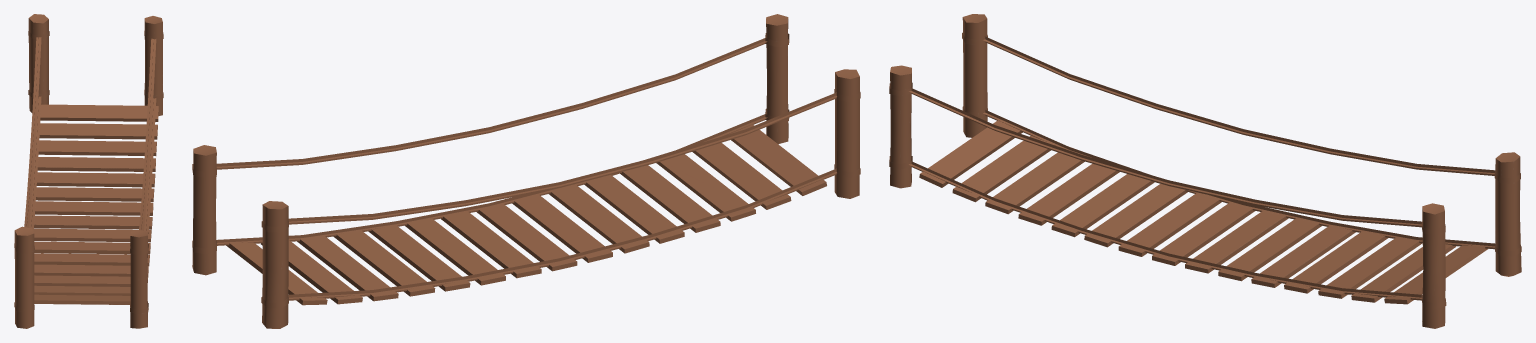
File: bridge.glb
3 renders of one model, left to right at view 1: azimuth 30°, elevation 25°; view 2: azimuth 150°, elevation 25°; view 3: azimuth 270°, elevation 25°, orthographic. The views are drawn at different scales.
Visible parts, largest first — view 1: node_id576; view 2: node_id576; view 3: node_id576.
Part boxes in pixels (x1,y1,x2,y2): node_id576: (14, 14, 163, 328); node_id576: (192, 14, 860, 328); node_id576: (889, 14, 1521, 328).
Bounding box in the file's own units: 0.4073 × 0.1162 × 0.5416.
1 material, 1 textured.
